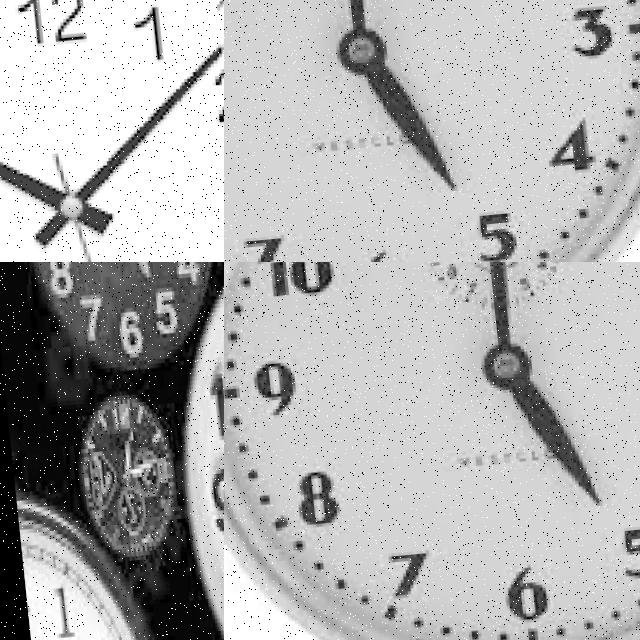Clocks-images: (225, 263, 640, 640), (225, 1, 640, 263), (1, 1, 225, 263), (156, 263, 225, 640), (22, 263, 225, 380), (70, 394, 178, 561)
